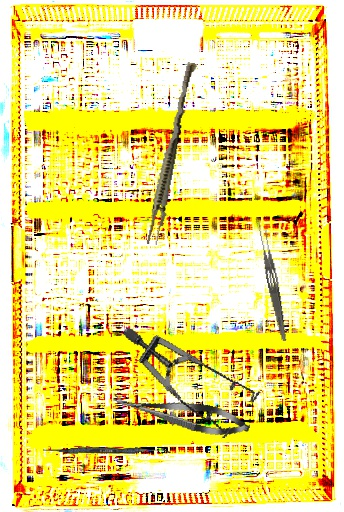Dressing Forceps: (256, 227, 292, 343)
Micro Scissor: (109, 385, 253, 443)
Spatula Surgical: (42, 445, 171, 456)
Speculum: (121, 291, 272, 459)
Tissue Forceps: (144, 60, 198, 247)
